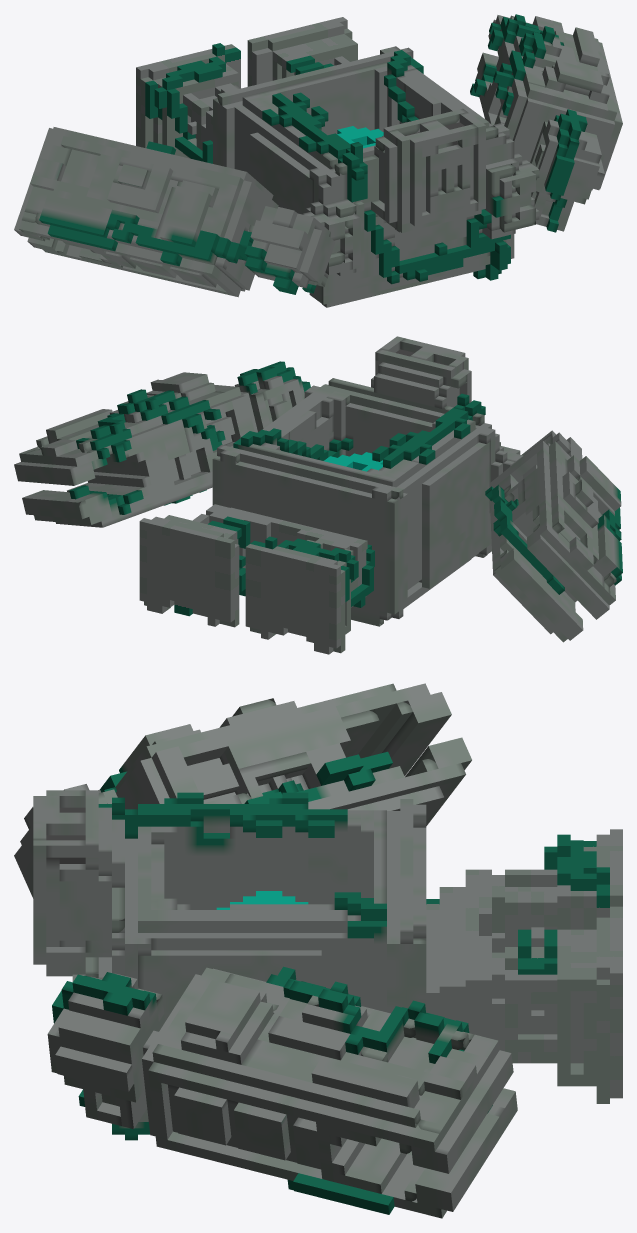
File: GolemFalling.dae
3 views of the same model, one above another, from view 1: azimuth 30°, elevation 25°; view 2: azimuth 150°, elevation 25°; view 3: azimuth 270°, elevation 25° (orthographic). The views are drawn at different scales.
Parts seen in each view (by area): view 1: body-local, leftArm-local, rightArm-local, leftFoot-local, rightFoot-local, core-local; view 2: body-local, rightArm-local, leftArm-local, leftFoot-local, rightFoot-local, core-local; view 3: rightArm-local, body-local, leftArm-local, rightFoot-local, leftFoot-local, core-local.
Boxes of the visible parts, <box> form: body-local: <box>213,46,539,307</box>; leftArm-local: <box>14,127,335,297</box>; rightArm-local: <box>470,14,622,232</box>; leftFoot-local: <box>136,43,240,163</box>; rightFoot-local: <box>247,17,357,86</box>; core-local: <box>337,126,383,148</box>; body-local: <box>212,336,523,626</box>; rightArm-local: <box>14,361,310,527</box>; leftArm-local: <box>485,430,622,642</box>; leftFoot-local: <box>245,522,374,654</box>; rightFoot-local: <box>139,504,298,627</box>; core-local: <box>324,452,382,471</box>; rightArm-local: <box>47,966,517,1218</box>; body-local: <box>33,790,426,1140</box>; leftArm-local: <box>14,683,471,920</box>; rightFoot-local: <box>426,906,622,1103</box>; leftFoot-local: <box>426,829,622,952</box>; core-local: <box>216,891,308,909</box>.
Size of the model in its own units: 76.15 by 23 by 46.47.
Materials: 6 (6 with a texture image).
